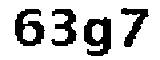3: (47, 7, 79, 51)
6: (10, 11, 50, 50)
7: (117, 3, 151, 50)
g: (83, 18, 116, 60)
